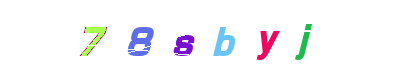7: (69, 0, 149, 80)
8: (136, 0, 216, 80)
B: (160, 0, 240, 80)
J: (264, 0, 344, 80)
S: (144, 0, 224, 80)
Y: (203, 0, 283, 80)
